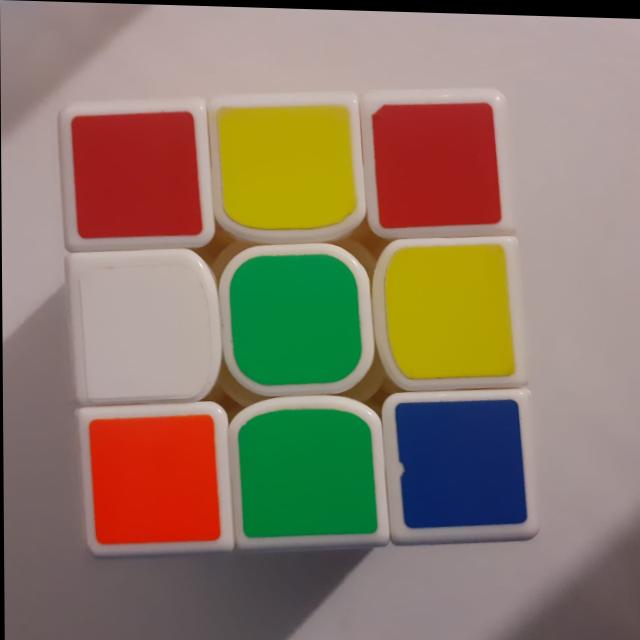Blue: (392, 395, 529, 534)
Green: (236, 403, 387, 541), (223, 249, 371, 389)
Orange: (78, 408, 227, 551)
Red: (61, 112, 207, 244), (372, 95, 502, 229)
White: (67, 256, 214, 399)
Yellow: (375, 242, 523, 385), (218, 102, 360, 231)
